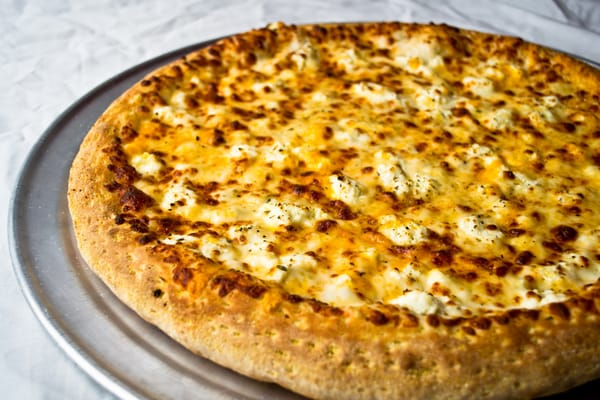curry: (1, 1, 581, 394)
sandwich: (81, 20, 599, 394)
